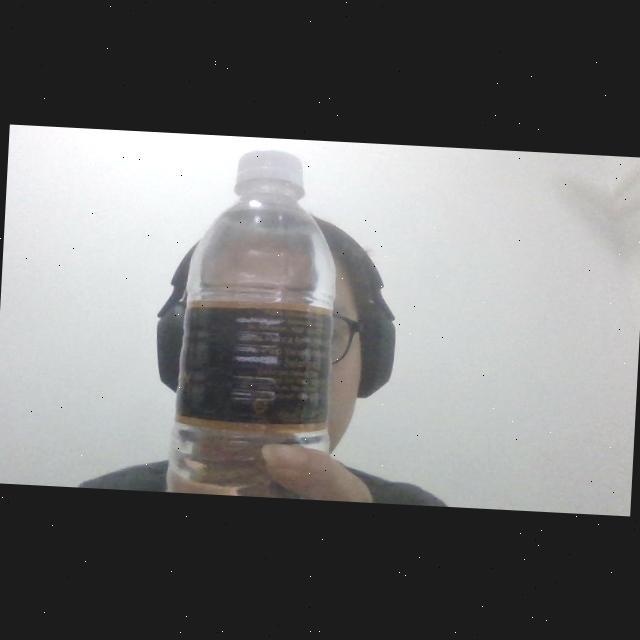trash: (162, 141, 350, 500)
